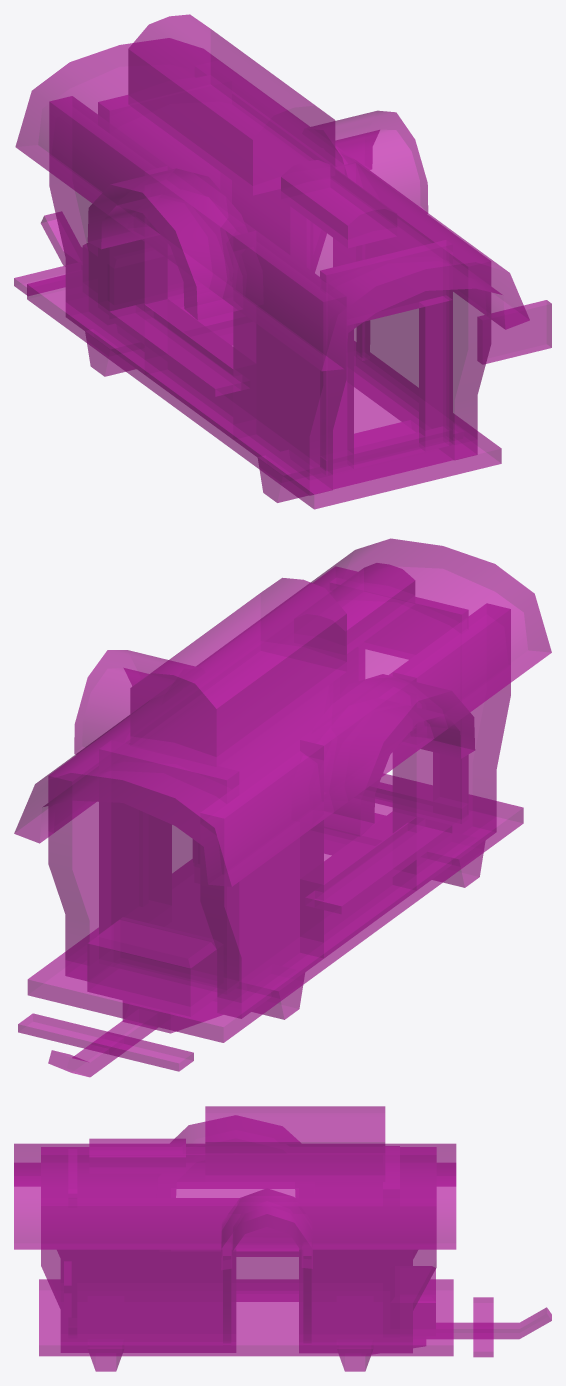
Rendered from SM_Veh_Wagon_01_Collision.fbx.
The picture shows the model from 3 angles, top to bottom: view 1: azimuth 30°, elevation 25°; view 2: azimuth 150°, elevation 25°; view 3: azimuth 270°, elevation 25°; orthographic projection. The views are drawn at different scales.
Parts seen in each view (by area): view 1: SM_Veh_Wagon_01_Collision; view 2: SM_Veh_Wagon_01_Collision; view 3: SM_Veh_Wagon_01_Collision.
Part boxes in pixels (bbox=[...]): SM_Veh_Wagon_01_Collision: bbox=[14, 14, 551, 509]; SM_Veh_Wagon_01_Collision: bbox=[14, 538, 551, 1077]; SM_Veh_Wagon_01_Collision: bbox=[14, 1106, 551, 1371].
Size of the model in its own units: 418 by 437 by 930.
